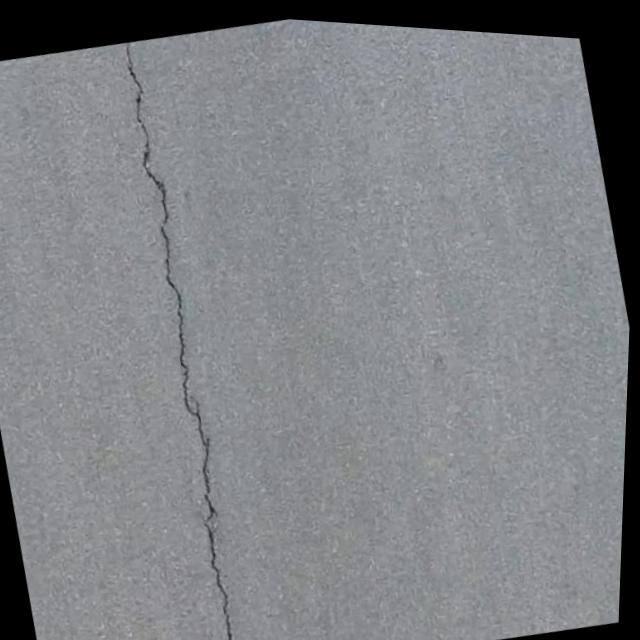Crack: (87, 37, 299, 640)
